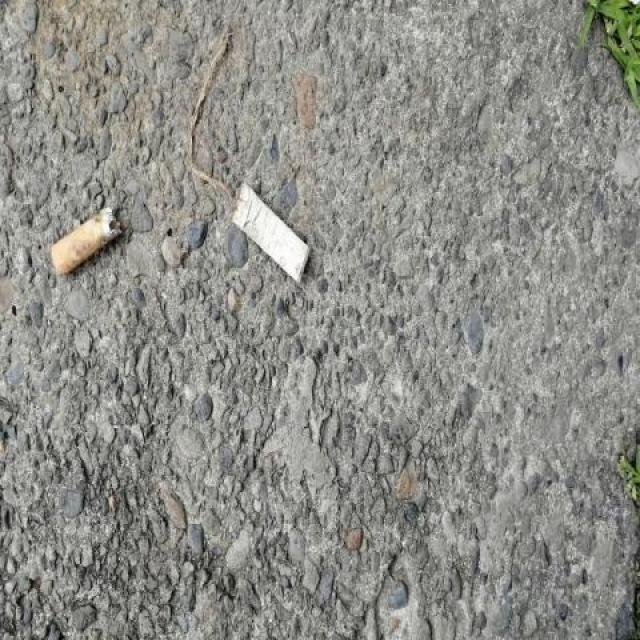non-organic waste: (226, 178, 314, 286), (48, 203, 125, 281)
